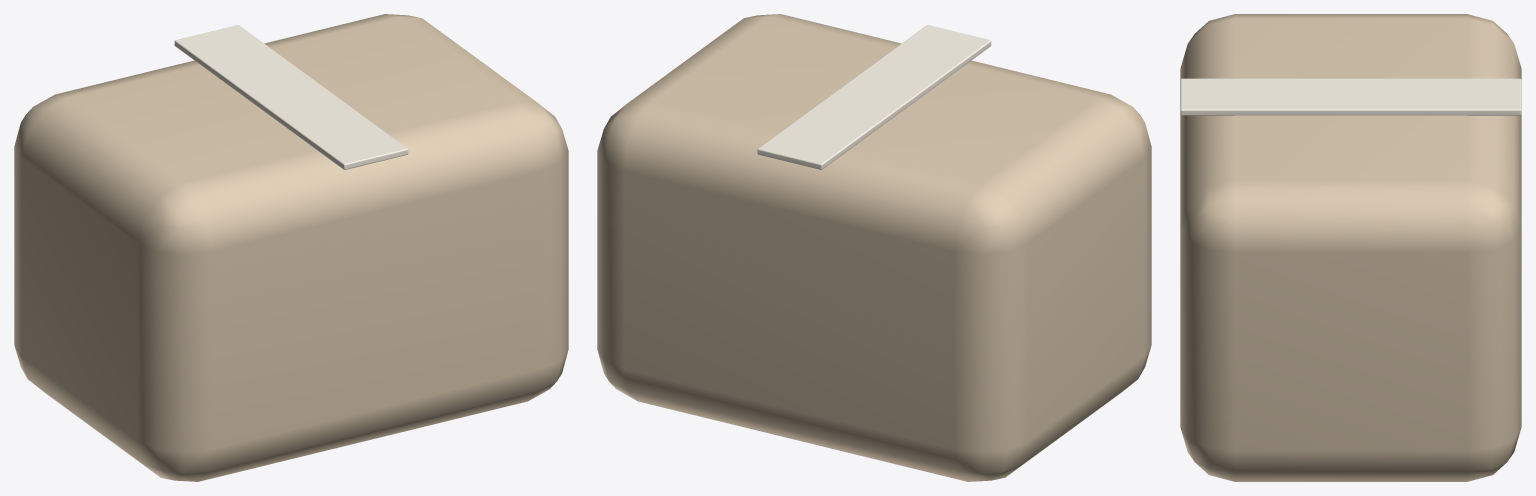
Rendered from Parcel.fbx.
The picture shows the model from 3 angles, left to right: view 1: azimuth 30°, elevation 25°; view 2: azimuth 150°, elevation 25°; view 3: azimuth 270°, elevation 25°; orthographic projection.
Parts seen in each view (by area): view 1: Parcel, Tape; view 2: Parcel, Tape; view 3: Parcel, Tape.
Boxes of the visible parts, left/top/right/bottom form: Parcel: left=14, top=14, right=568, bottom=481; Tape: left=174, top=25, right=408, bottom=169; Parcel: left=597, top=14, right=1151, bottom=481; Tape: left=757, top=25, right=991, bottom=169; Parcel: left=1180, top=14, right=1521, bottom=481; Tape: left=1180, top=78, right=1521, bottom=115.
Bounding box in the file's own units: 36 × 24.45 × 25.
